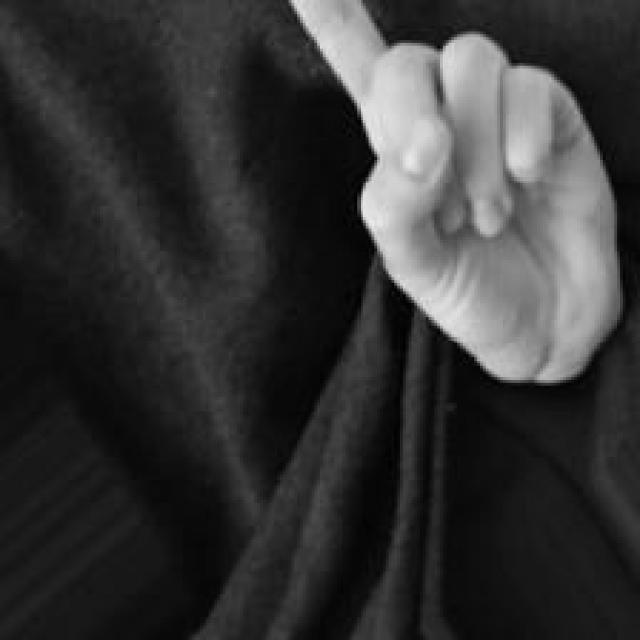I: (282, 0, 640, 390)
